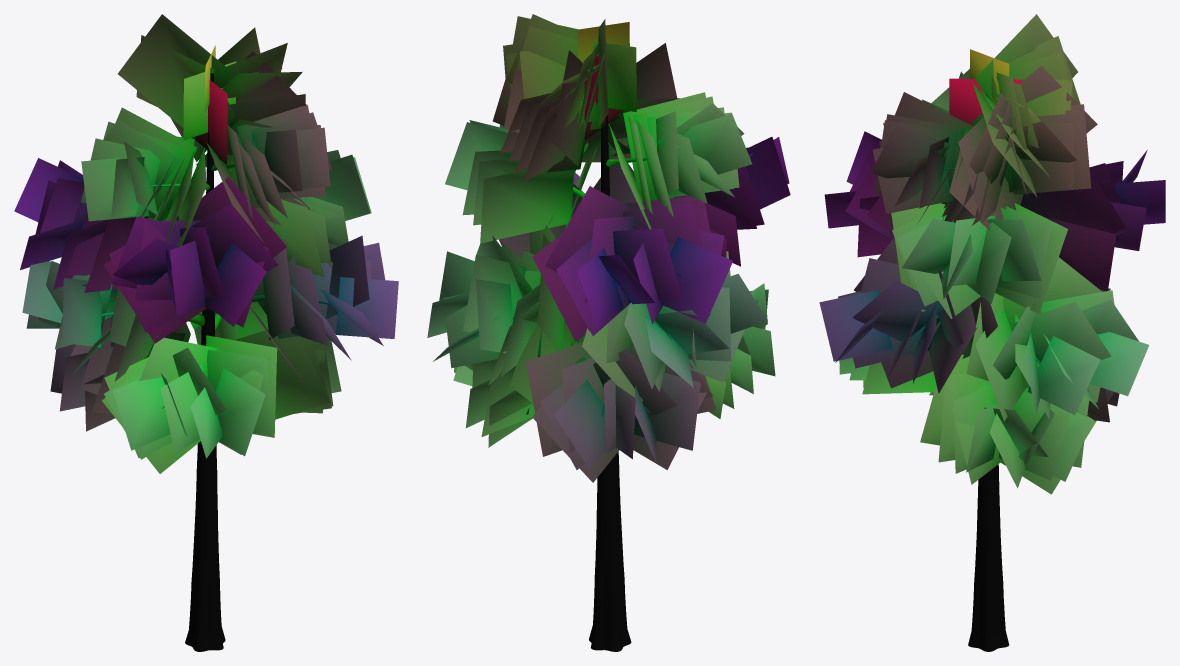
File: Pine.fbx
3 views of the same model, side by side, from view 1: azimuth 30°, elevation 25°; view 2: azimuth 150°, elevation 25°; view 3: azimuth 270°, elevation 25° (orthographic). The views are drawn at different scales.
Visible parts, largest first — view 1: Tree_1, Tree_0; view 2: Tree_1, Tree_0; view 3: Tree_1, Tree_0.
Part boxes in pixels (left/top/right/bottom): Tree_1: left=14, top=14, right=398, bottom=473; Tree_0: left=101, top=73, right=330, bottom=651; Tree_1: left=427, top=14, right=790, bottom=482; Tree_0: left=512, top=115, right=681, bottom=651; Tree_1: left=819, top=14, right=1165, bottom=494; Tree_0: left=911, top=95, right=1045, bottom=651.
Size of the model in its own units: 218 by 434 by 220.
